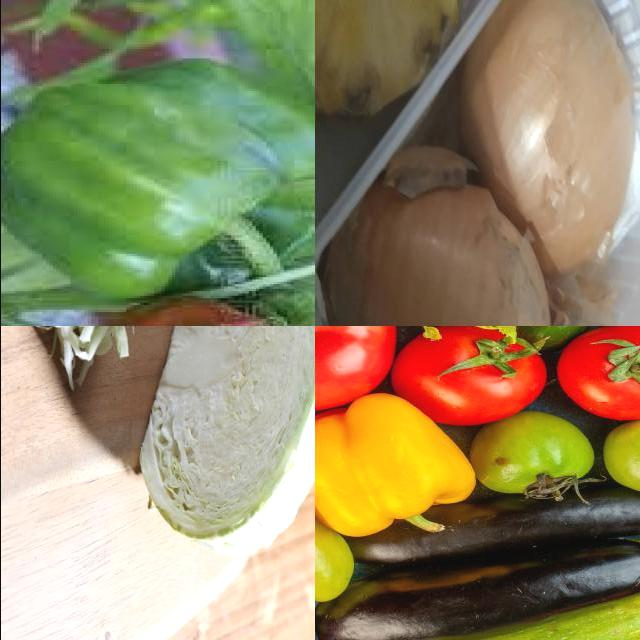bell_pepper: (1, 55, 305, 312), (315, 392, 479, 540), (315, 498, 362, 617)
cabbage: (134, 327, 315, 561)
eggplant: (315, 537, 640, 640), (338, 490, 640, 561)
onion: (461, 1, 636, 299), (324, 153, 553, 327)
tomato: (390, 327, 550, 427), (481, 415, 597, 504), (553, 327, 640, 422), (315, 327, 403, 412), (614, 423, 640, 497)
zucchini: (375, 589, 640, 640)
